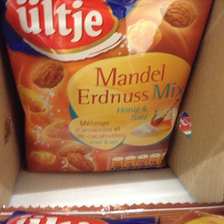nuts: (2, 1, 214, 174)
